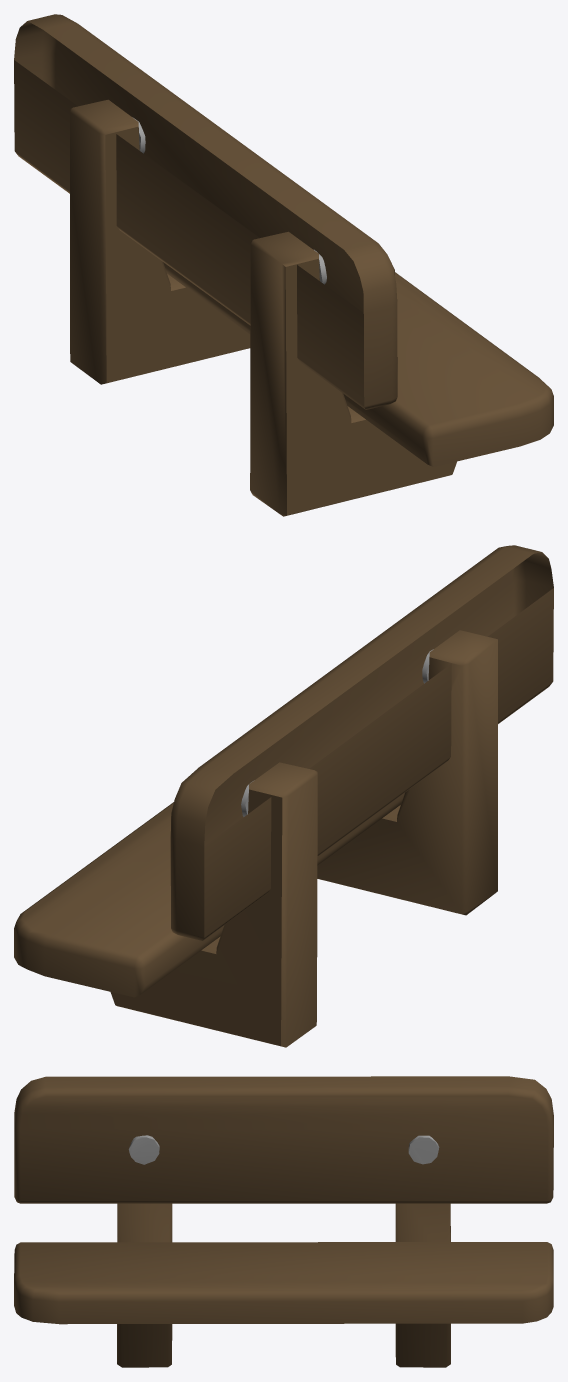
File: Bench.fbx
3 views of the same model, one above another, from view 1: azimuth 30°, elevation 25°; view 2: azimuth 150°, elevation 25°; view 3: azimuth 270°, elevation 25° (orthographic). The views are drawn at different scales.
Visible parts, largest first — view 1: Bench; view 2: Bench; view 3: Bench.
Part boxes in pixels (bbox=[...]): Bench: bbox=[14, 14, 553, 516]; Bench: bbox=[14, 545, 553, 1047]; Bench: bbox=[14, 1076, 553, 1367].
Size of the model in its own units: 0.5294 by 0.6908 by 1.46.
